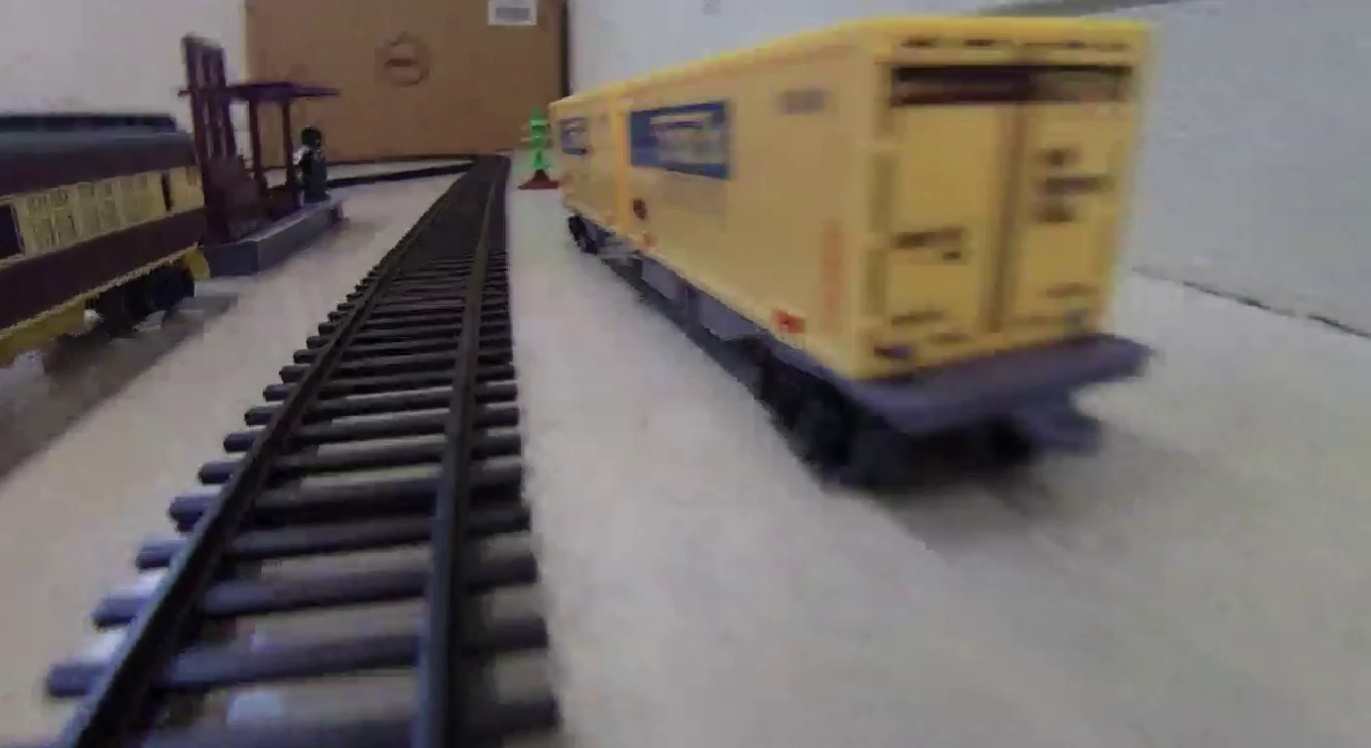people: (295, 129, 332, 203)
